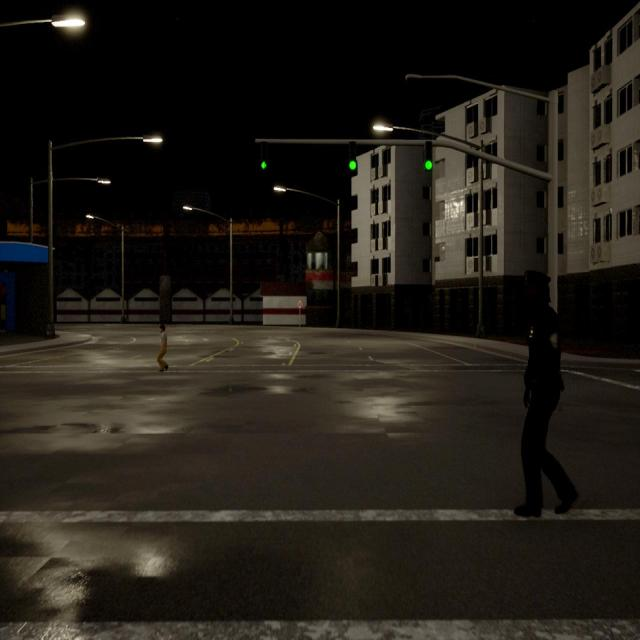Pedestrian: (514, 270, 576, 516), (157, 324, 168, 371)
Traffic_Signs: (297, 301, 303, 308)
traffic_light: (425, 140, 432, 170), (349, 141, 356, 170), (261, 142, 267, 169)
